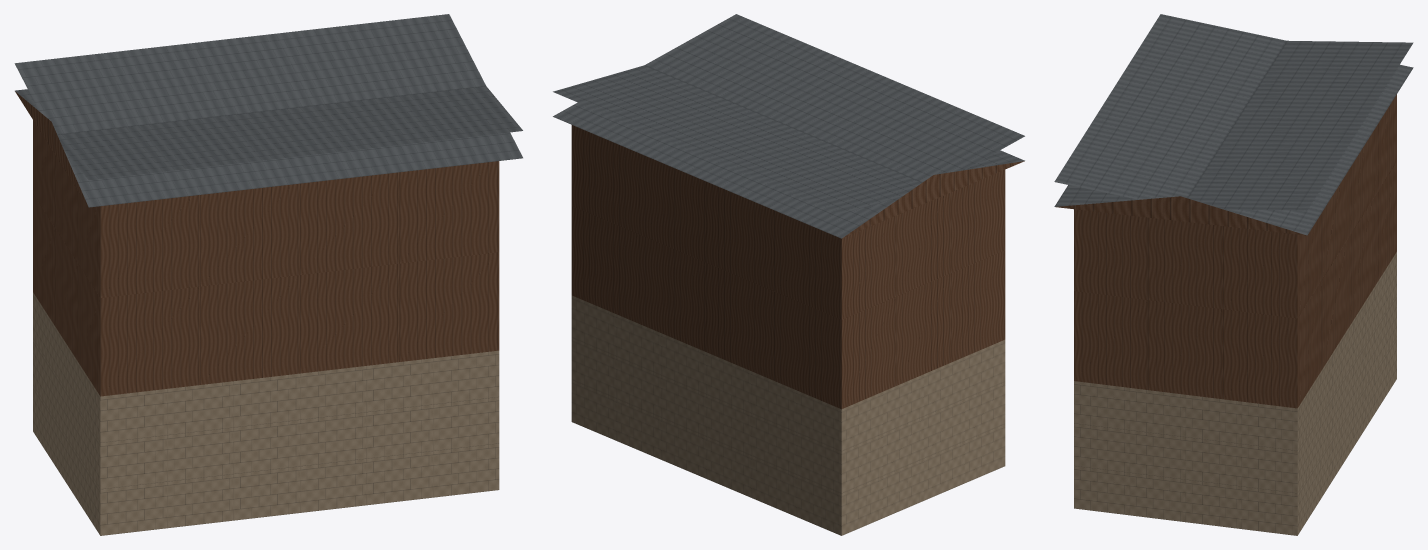
File: bld_c25_18_561.gltf
3 renders of one model, left to right at view 1: azimuth 30°, elevation 25°; view 2: azimuth 150°, elevation 25°; view 3: azimuth 270°, elevation 25°, orthographic. The views are drawn at different scales.
Parts seen in each view (by area): view 1: bld_c25_18_561; view 2: bld_c25_18_561; view 3: bld_c25_18_561.
Part boxes in pixels (bbox=[...]): bld_c25_18_561: bbox=[14, 14, 522, 535]; bld_c25_18_561: bbox=[553, 14, 1024, 535]; bld_c25_18_561: bbox=[1054, 14, 1413, 535].
Size of the model in its own units: 16.87 by 13.3 by 13.03.
Materials: 4 (4 with a texture image).
